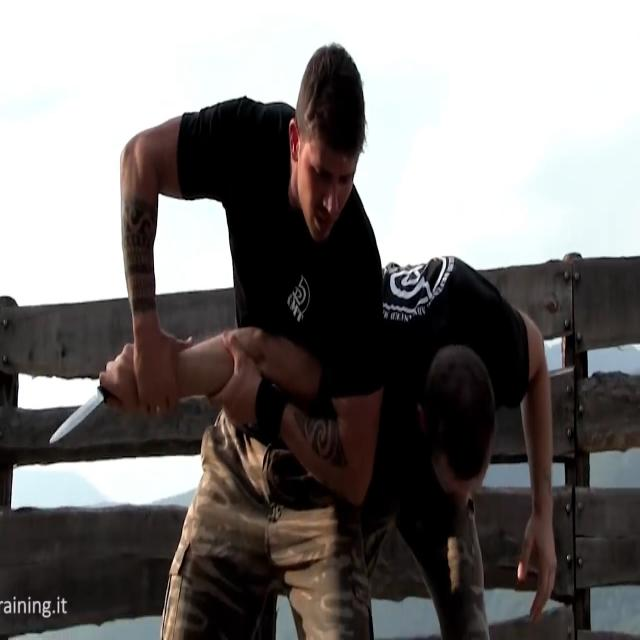knife: (50, 386, 108, 449)
